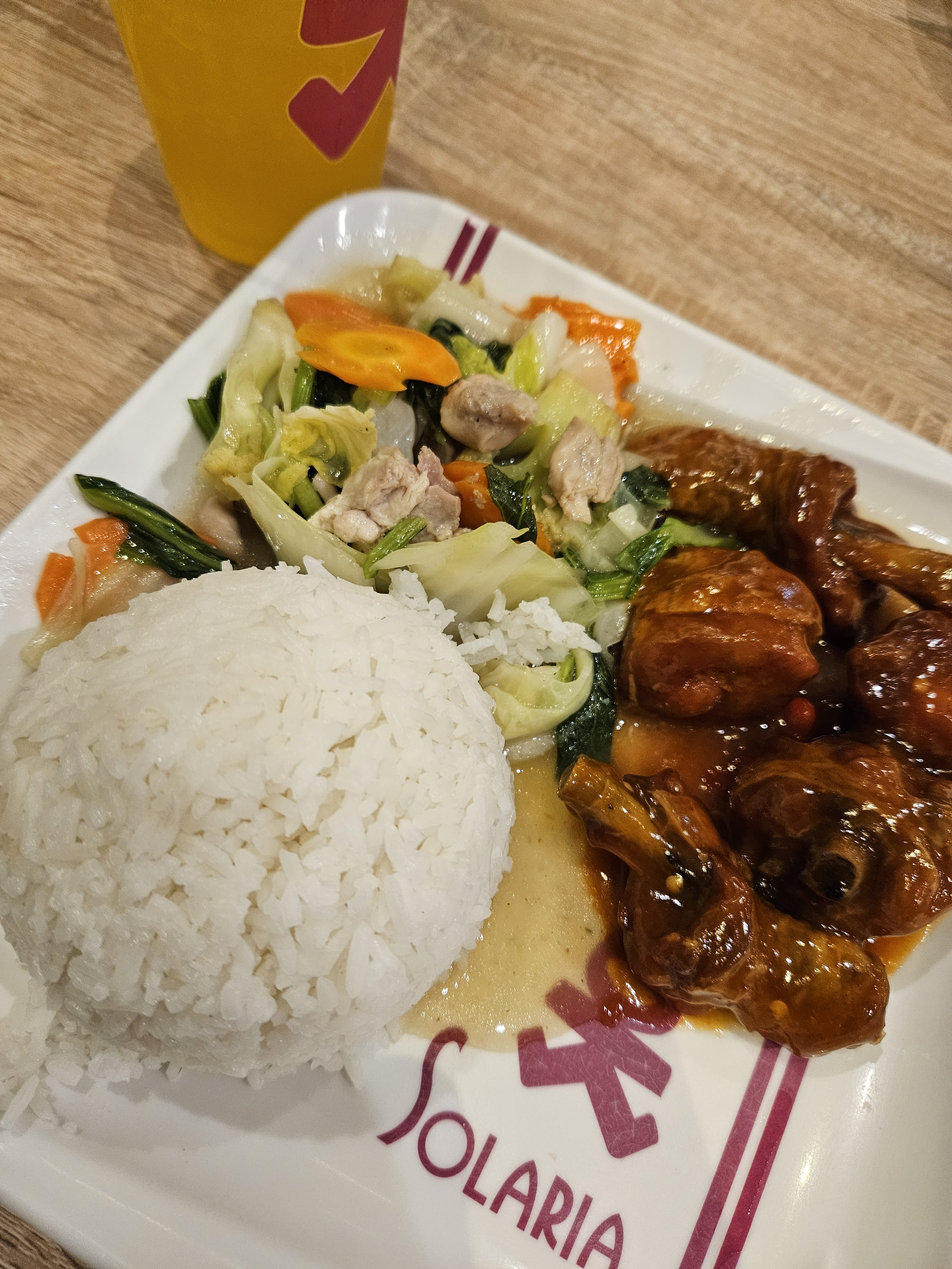buah_sayur_vitA: (71, 224, 619, 593)
daging: (600, 422, 952, 1033)
makanan_berpati: (0, 566, 493, 1068)
